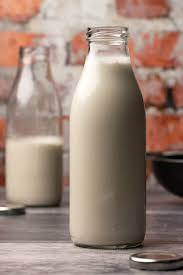milk: (68, 24, 158, 256), (7, 43, 66, 210)
